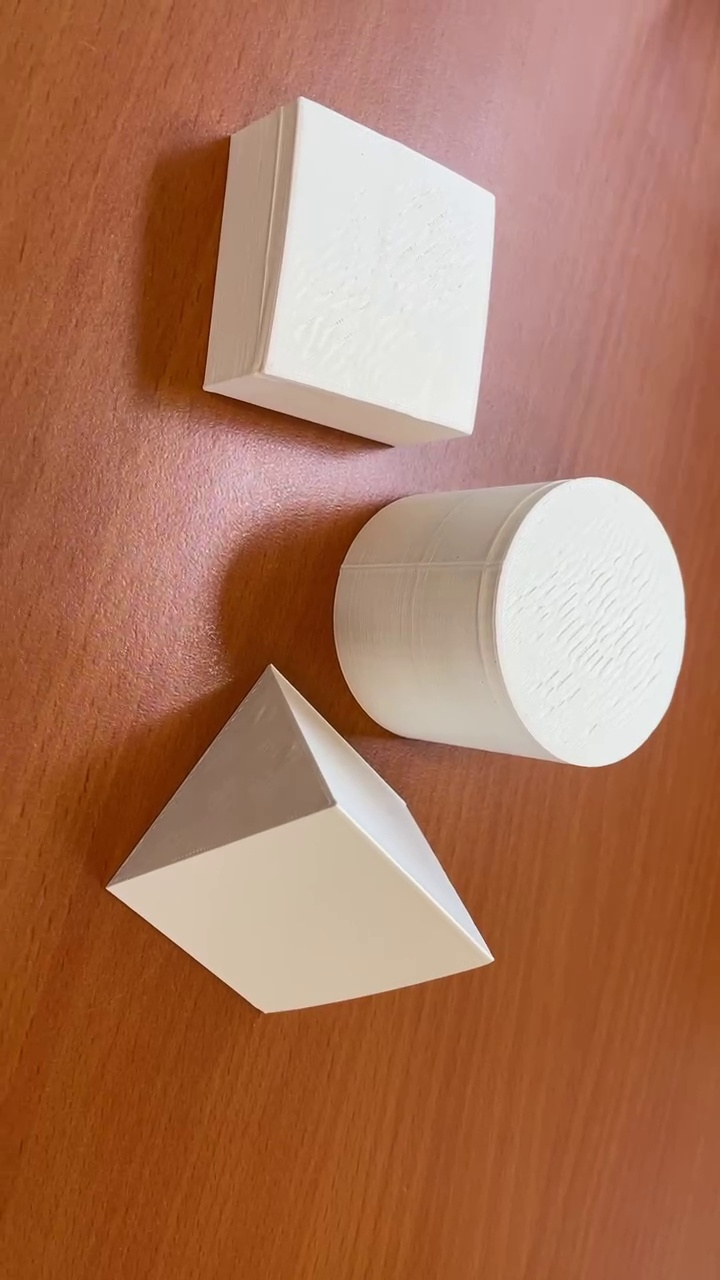Cube_short: (197, 94, 498, 452)
Cylinder: (338, 478, 686, 767)
Triangle: (97, 665, 497, 1011)
